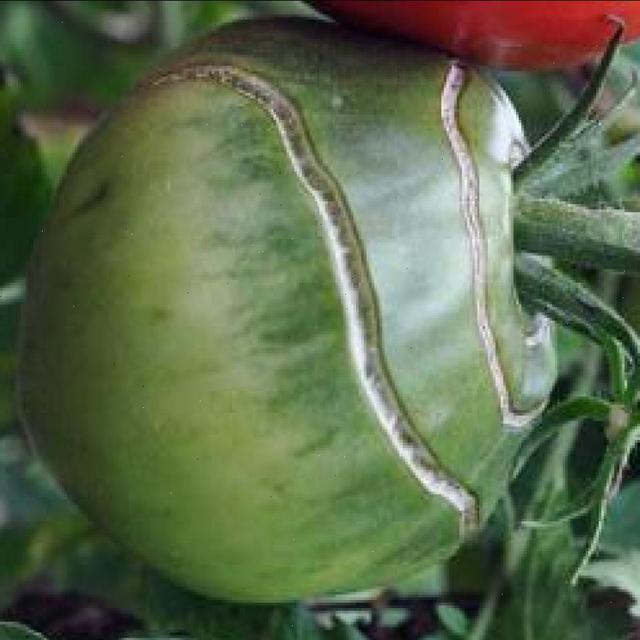Cracking Fruit: (79, 162, 334, 335)
